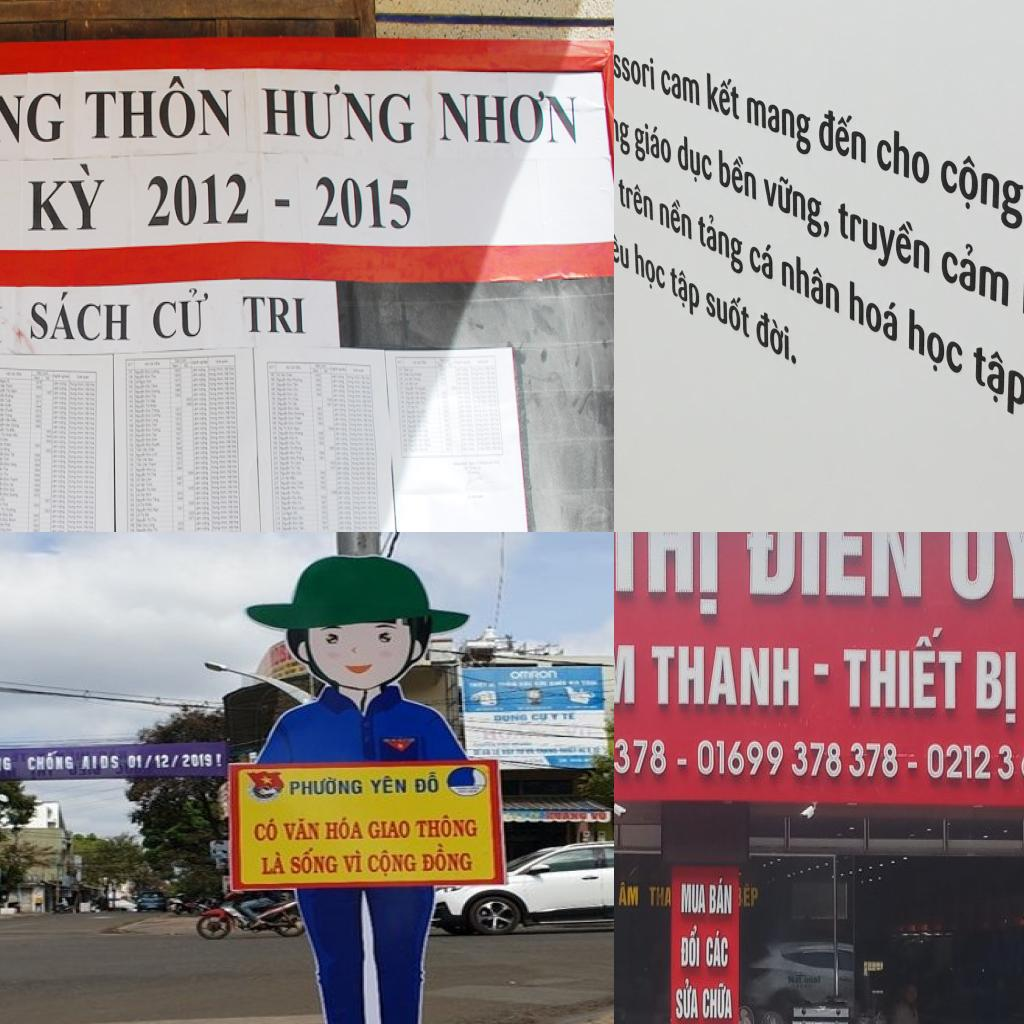text: (260, 75, 418, 154), (745, 532, 923, 600), (80, 71, 237, 146), (840, 625, 964, 713), (431, 79, 584, 150), (650, 644, 801, 709), (696, 736, 900, 782), (614, 532, 720, 618), (836, 191, 933, 282), (143, 164, 256, 239), (312, 162, 422, 238), (940, 139, 1024, 235), (25, 157, 111, 236), (759, 159, 833, 249), (25, 287, 133, 347), (939, 230, 1014, 316), (947, 532, 1024, 602), (967, 332, 1024, 426), (777, 242, 843, 320), (904, 299, 963, 382), (0, 77, 67, 149), (746, 90, 811, 156), (148, 279, 210, 344), (926, 742, 1024, 783), (237, 288, 310, 343), (874, 120, 929, 193), (816, 95, 866, 169), (694, 206, 744, 280), (701, 275, 751, 349), (848, 278, 901, 344), (974, 649, 1018, 727), (614, 26, 656, 95), (713, 142, 758, 202), (664, 258, 701, 324), (674, 133, 713, 193), (702, 66, 742, 124), (614, 173, 656, 227), (633, 115, 673, 171), (614, 736, 668, 777), (631, 235, 666, 298), (659, 62, 700, 111), (614, 627, 638, 707), (288, 775, 366, 799), (418, 842, 476, 874), (658, 191, 693, 244), (412, 814, 481, 840), (127, 752, 224, 770), (367, 847, 418, 878), (289, 846, 341, 876), (701, 982, 735, 1021), (748, 230, 772, 282), (674, 976, 700, 1023), (264, 190, 302, 222), (280, 816, 322, 842), (324, 816, 366, 842), (705, 928, 730, 970), (708, 876, 734, 916), (367, 819, 414, 841), (679, 924, 701, 970), (680, 881, 708, 916), (367, 774, 411, 796), (26, 752, 74, 772), (614, 221, 629, 284), (614, 95, 629, 157), (252, 816, 280, 844), (260, 851, 288, 877), (414, 770, 442, 795), (340, 848, 366, 874), (647, 884, 673, 910), (617, 881, 640, 909), (81, 755, 121, 770), (509, 670, 560, 680), (742, 881, 760, 909), (492, 713, 530, 724), (554, 812, 590, 820), (0, 753, 13, 772), (531, 712, 549, 722), (559, 712, 577, 722), (591, 811, 608, 821), (549, 712, 560, 722)
